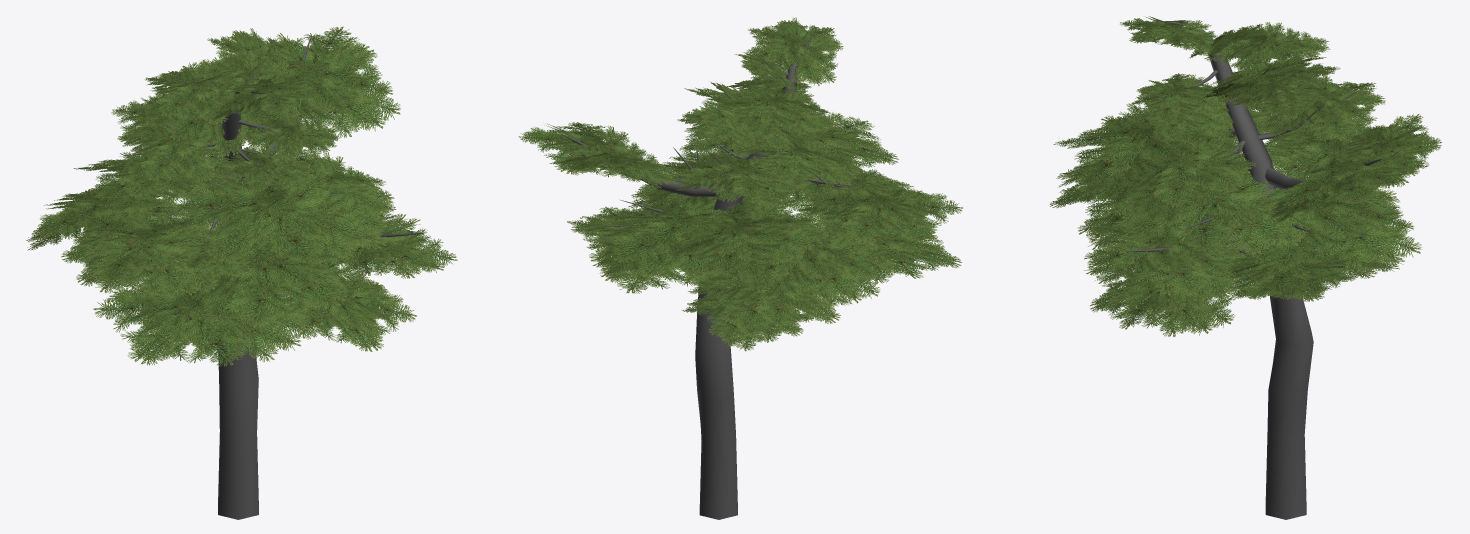
The model's file is arbol4.fbx.
3 renders of one model, left to right at view 1: azimuth 30°, elevation 25°; view 2: azimuth 150°, elevation 25°; view 3: azimuth 270°, elevation 25°, orthographic. The views are drawn at different scales.
Parts seen in each view (by area): view 1: polySurface64; view 2: polySurface64; view 3: polySurface64.
Boxes of the visible parts, bbox=[...] form: polySurface64: bbox=[26, 26, 457, 519]; polySurface64: bbox=[518, 17, 962, 519]; polySurface64: bbox=[1049, 16, 1441, 519].
Bounding box in the file's own units: 10.21 × 10.99 × 9.13.
